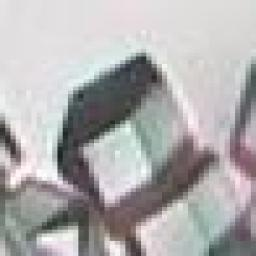crystals: (52, 53, 211, 242)
